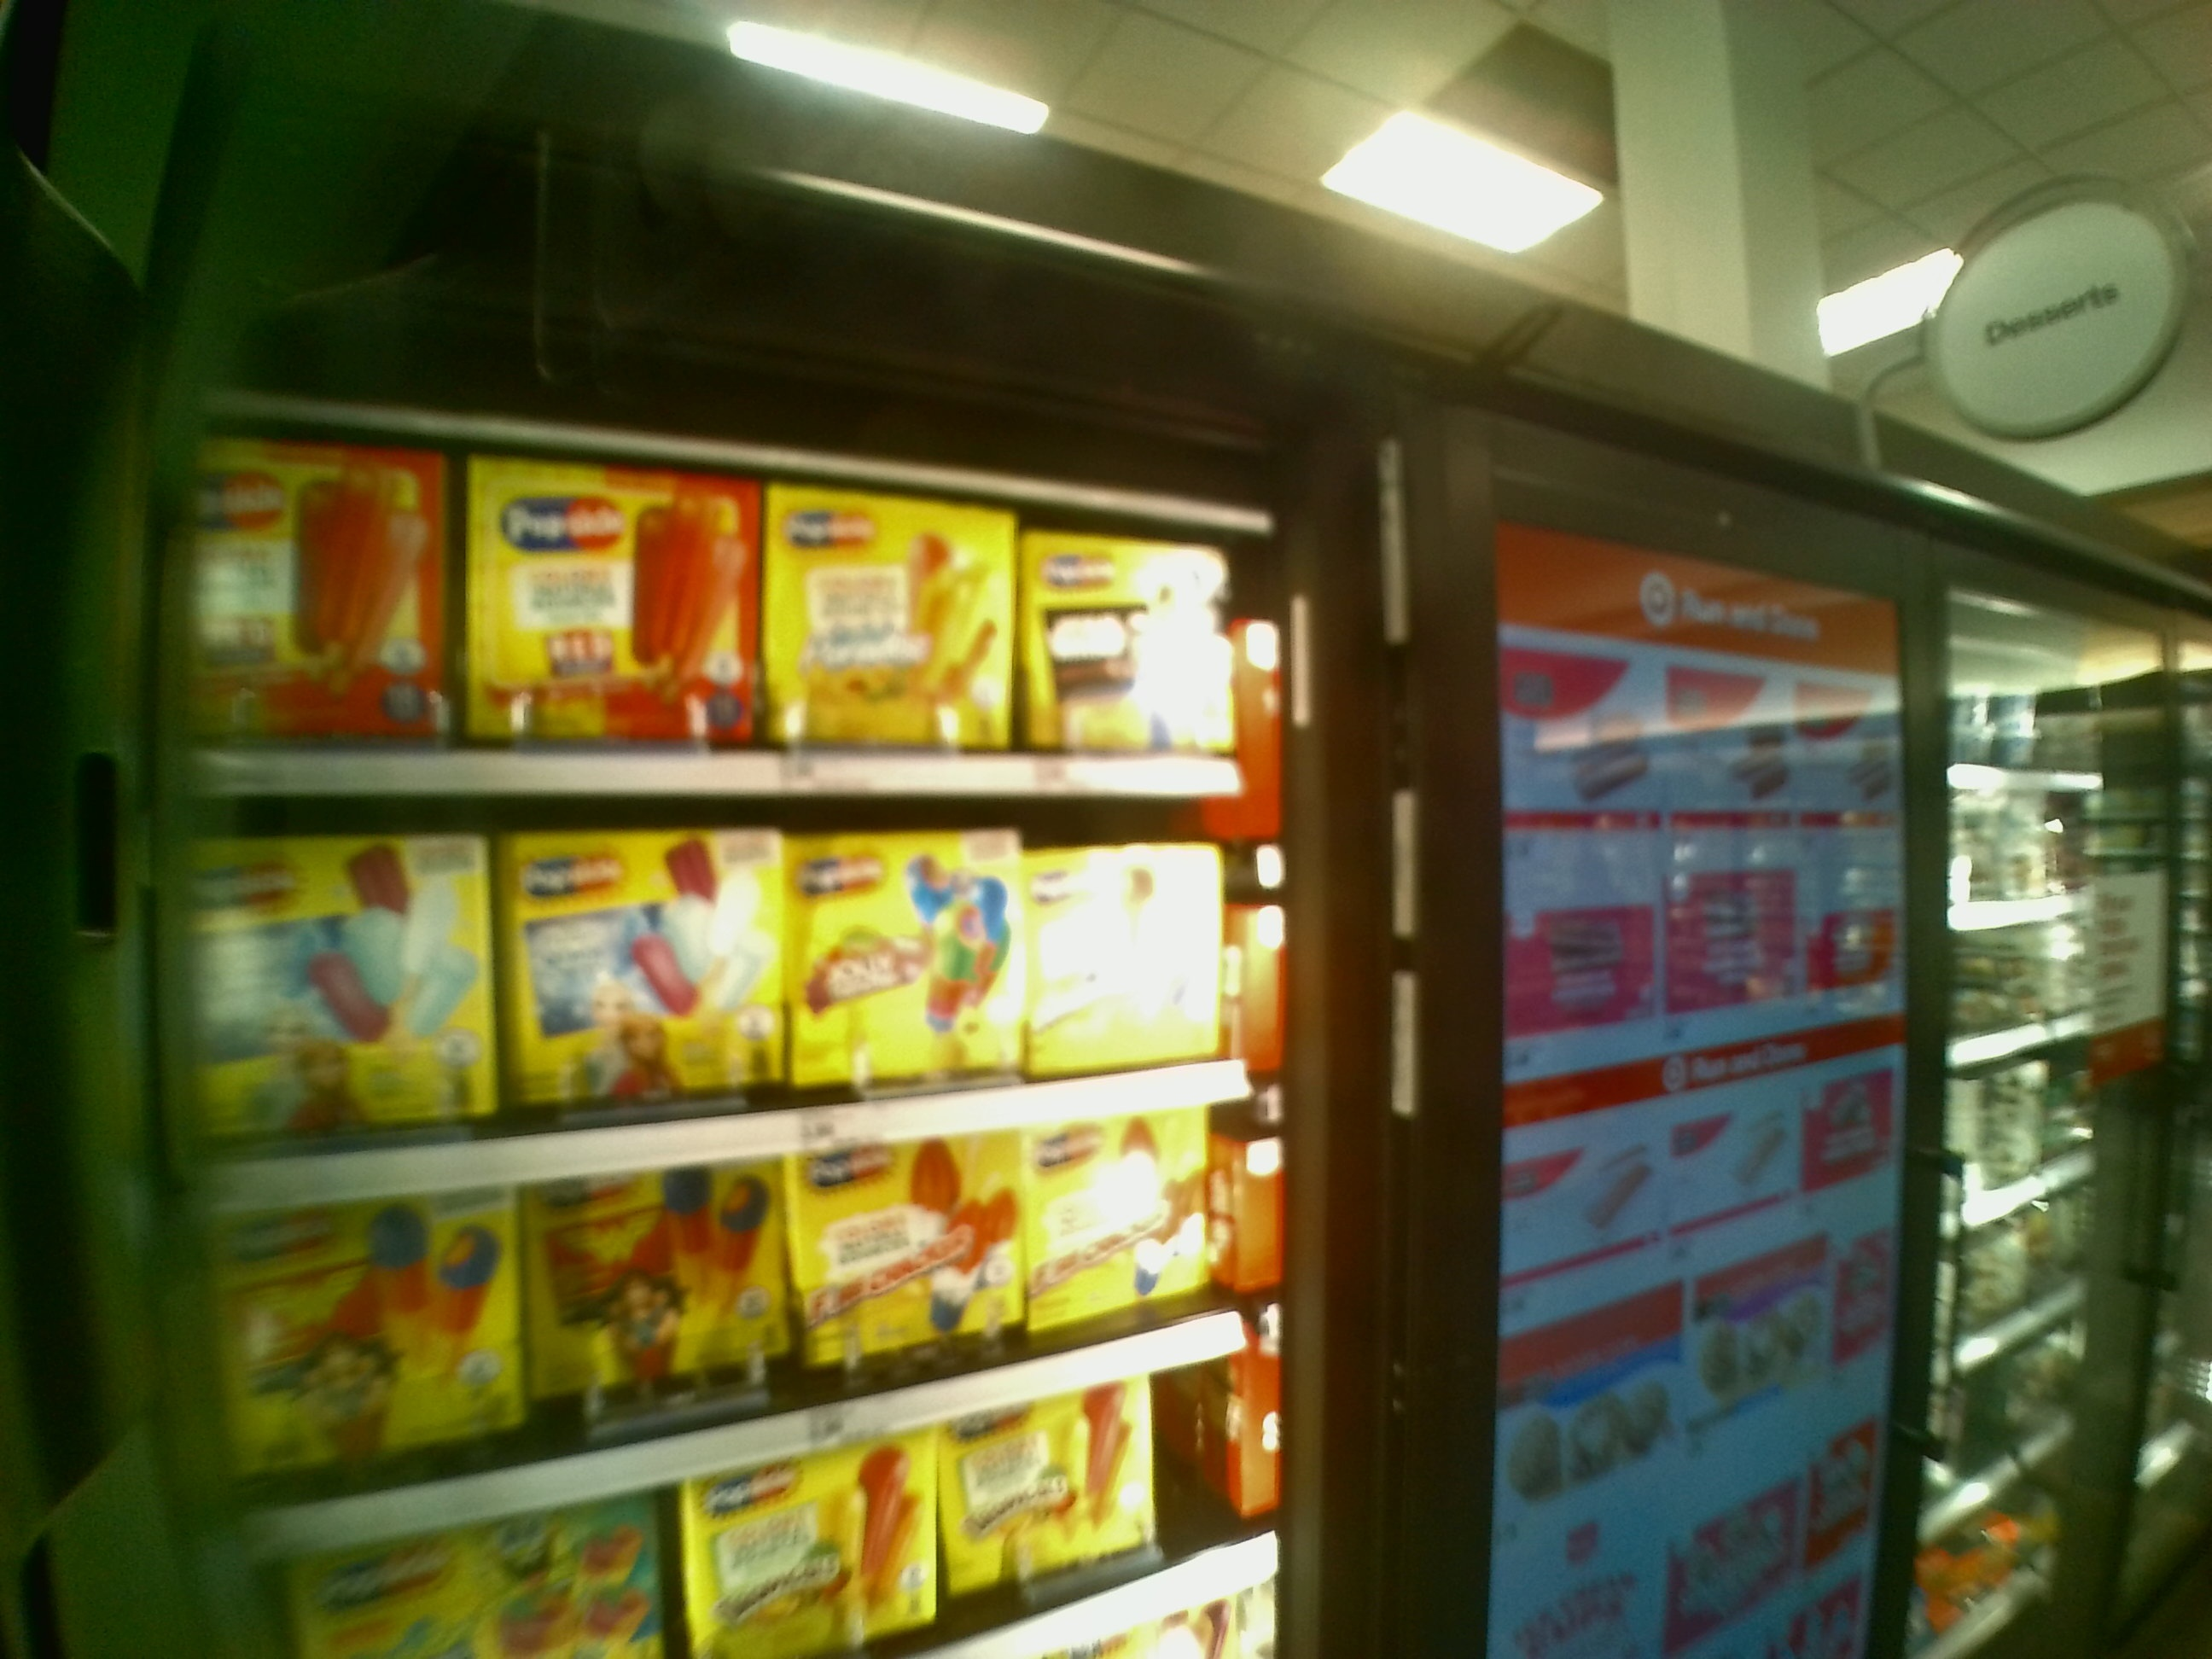shelf: (186, 422, 1270, 809), (193, 824, 1291, 1150), (216, 1143, 1275, 1473)
